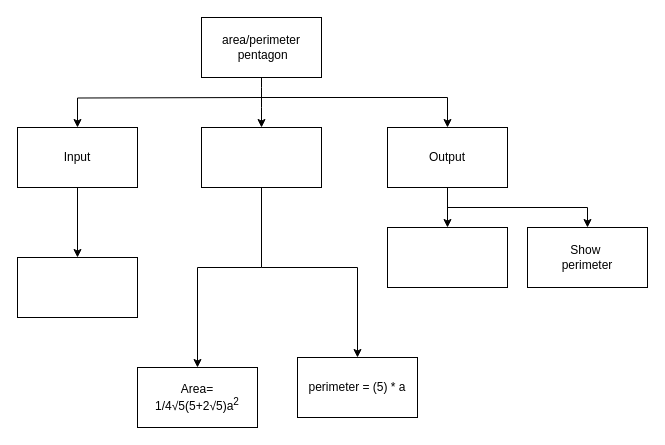
Some shapes in this 665 by 445 pixel diagram are drawn without their labels. The centre of each missing label's shape, as x and y in pixels:
"Get border length or (a)" belongs at (x=77, y=287).
"Process" belongs at (x=261, y=157).
"Show area" belongs at (x=447, y=257).
